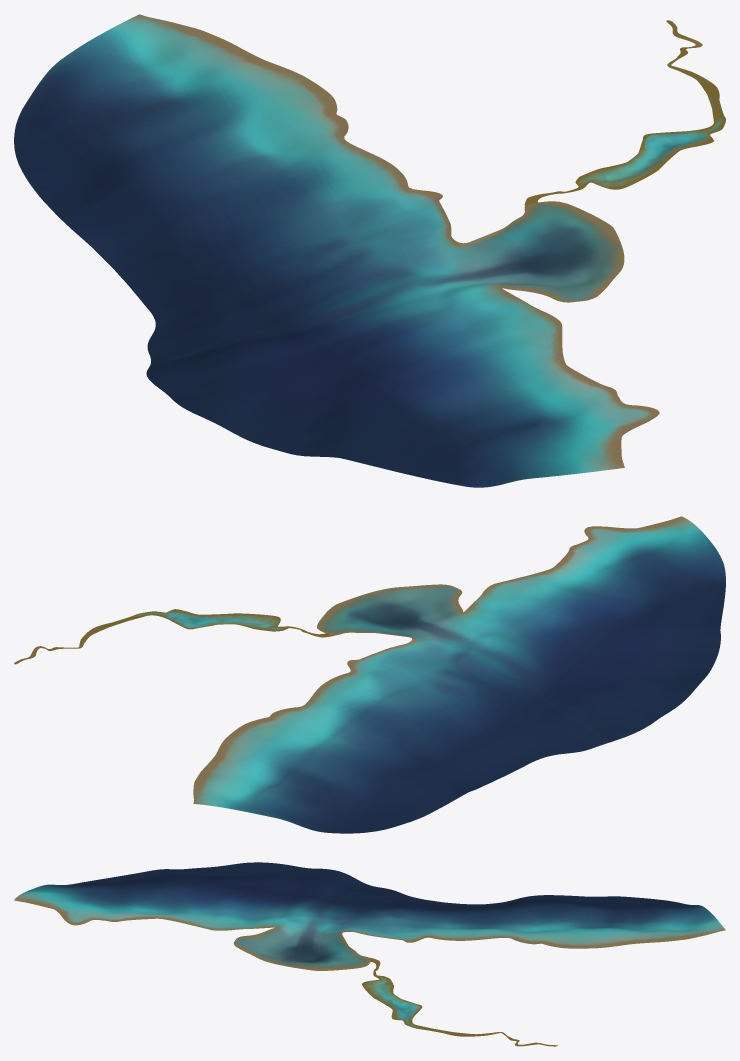
Rendered from Sea-Land_Latest3.glb.
3 views of the same model, one above another, from view 1: azimuth 30°, elevation 25°; view 2: azimuth 150°, elevation 25°; view 3: azimuth 270°, elevation 25° (orthographic). The views are drawn at different scales.
Parts seen in each view (by area): view 1: Retopo_Sea Land 1.002, Sea Land.001; view 2: Retopo_Sea Land 1.002, Sea Land.001; view 3: Retopo_Sea Land 1.002, Sea Land.001.
Part boxes in pixels (box(x1,y1,x2,y2)): Retopo_Sea Land 1.002: box(14, 14, 659, 487); Sea Land.001: box(524, 20, 725, 205); Retopo_Sea Land 1.002: box(193, 516, 725, 833); Sea Land.001: box(14, 609, 334, 664); Retopo_Sea Land 1.002: box(14, 862, 725, 970); Sea Land.001: box(362, 958, 557, 1046).
Size of the model in its own units: 12030 by 1050 by 17111.
Materials: 2 (2 with a texture image).
